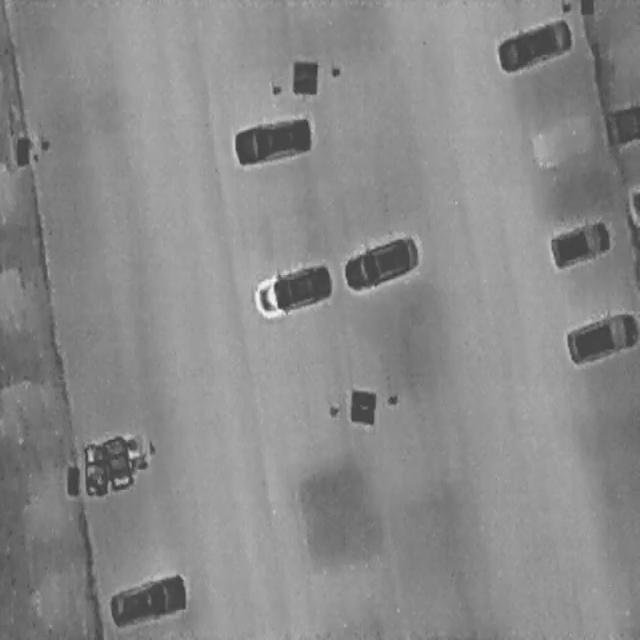Car: (247, 251, 336, 325), (338, 225, 422, 299), (492, 8, 575, 78), (106, 566, 189, 629), (231, 112, 313, 166), (565, 309, 638, 365), (545, 212, 613, 272), (605, 104, 639, 148)
